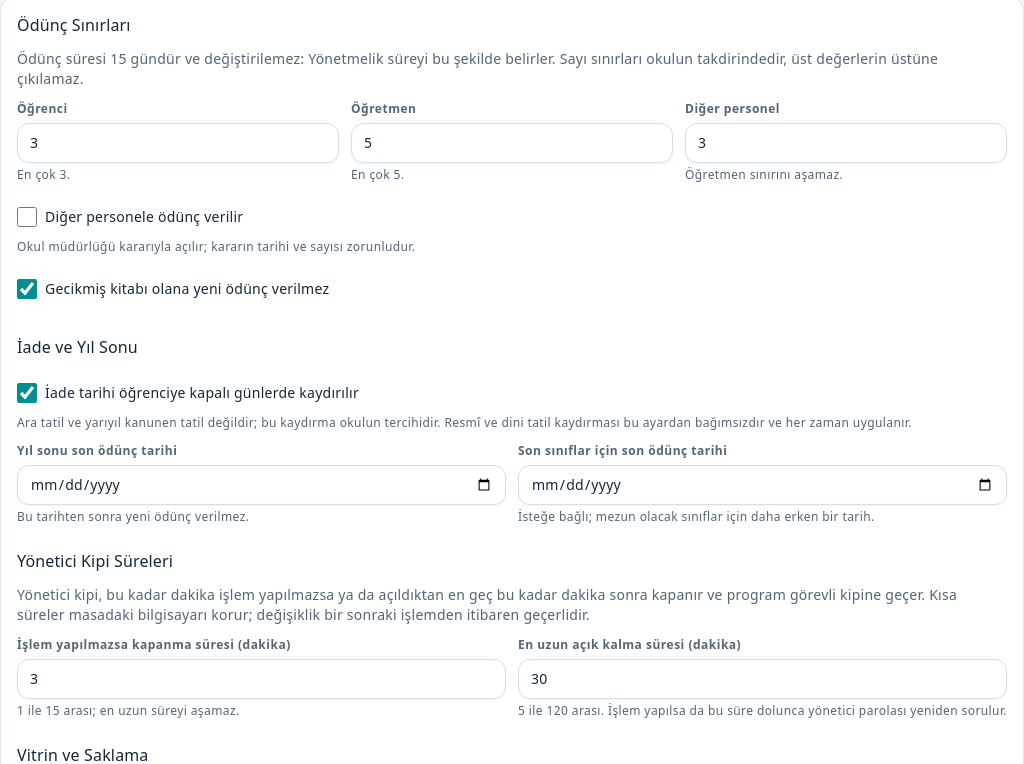
Kütüphane Politikası › sunucunun alan hatası ilgili alanda gösterilir
This screenshot has width=1024, height=764.
Check: the field labelled "Öğrenci" is shown, box [30, 133, 326, 153]
Click the checkbox labelled "Diğer personele ödünç verilir": (27, 217) [17, 207, 37, 227]
(page scrolled)
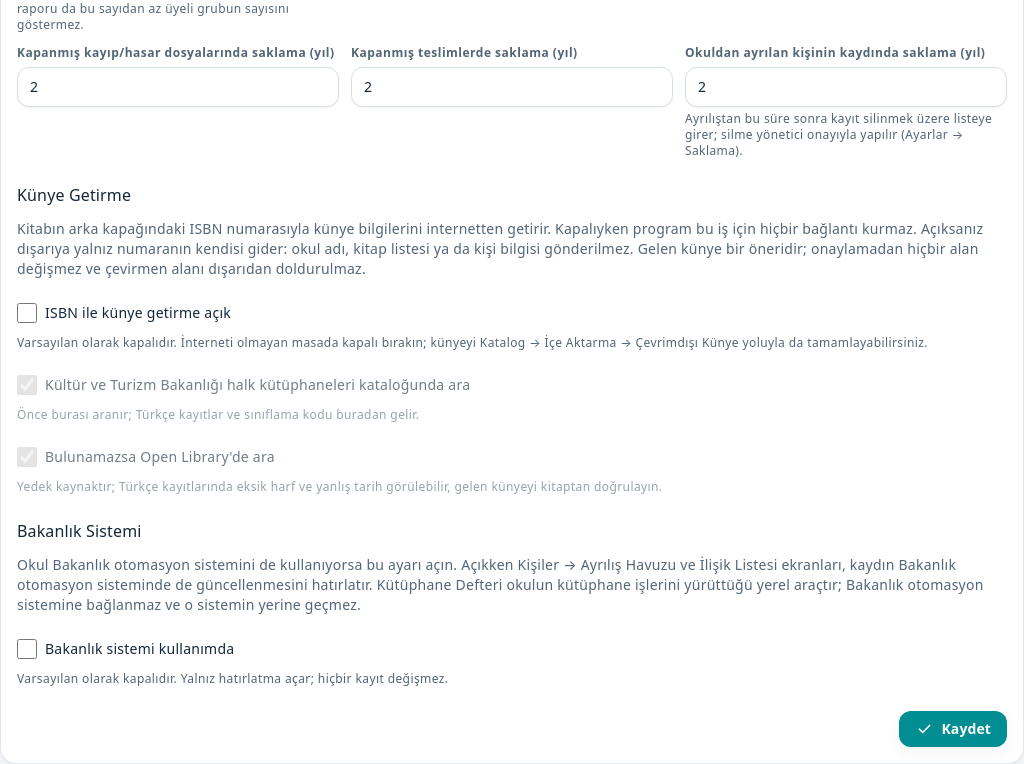
Click the button "Kaydet": (953, 729) [900, 711, 1007, 747]
(page scrolled)
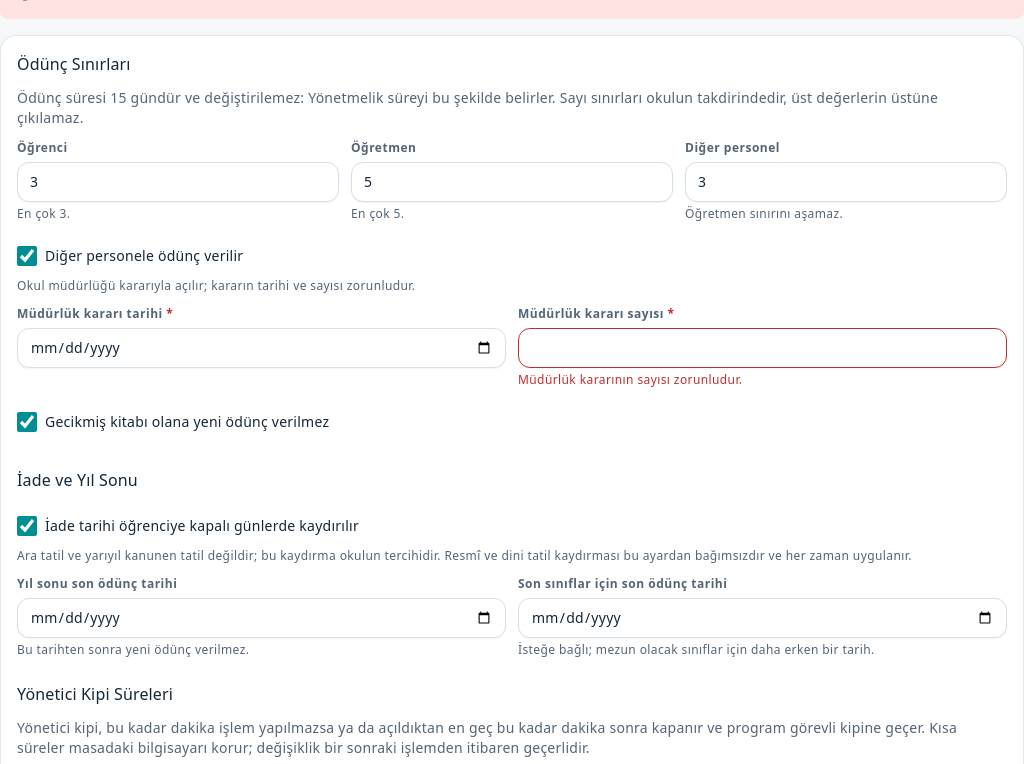
Check: the text "Müdürlük kararının sayısı zorunludur." is shown, box [518, 371, 742, 388]
